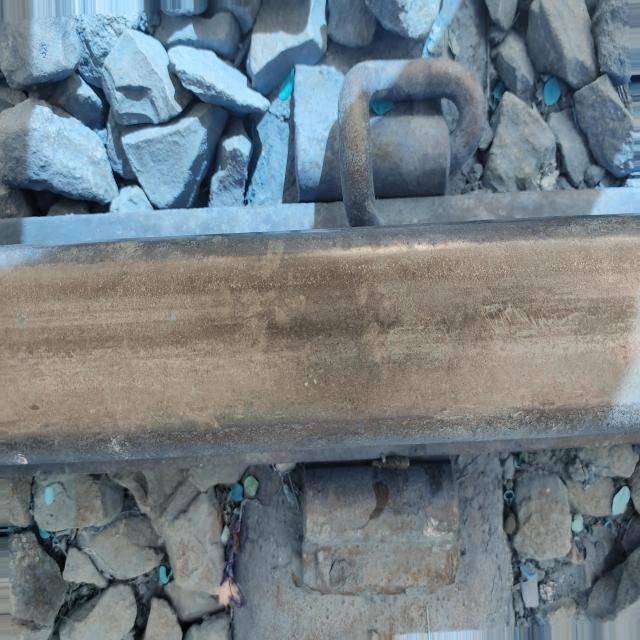Good Fasteners: (251, 45, 526, 231)
Missing Fastener: (269, 445, 496, 632)
